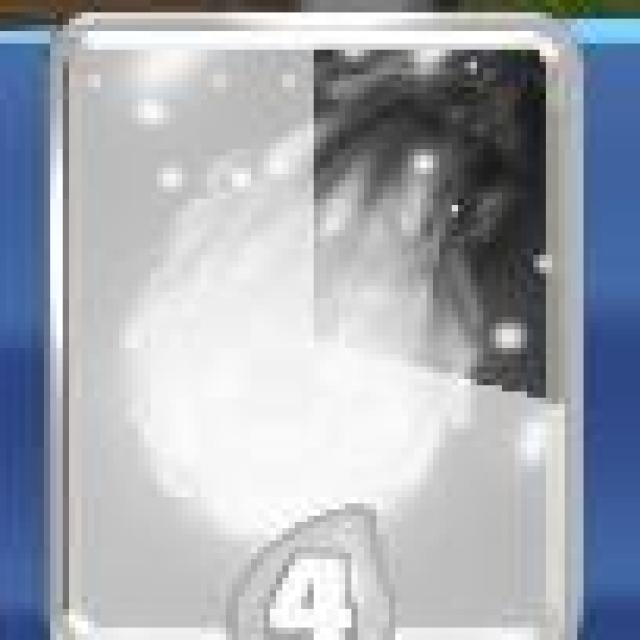Fireball: (47, 13, 579, 638)
